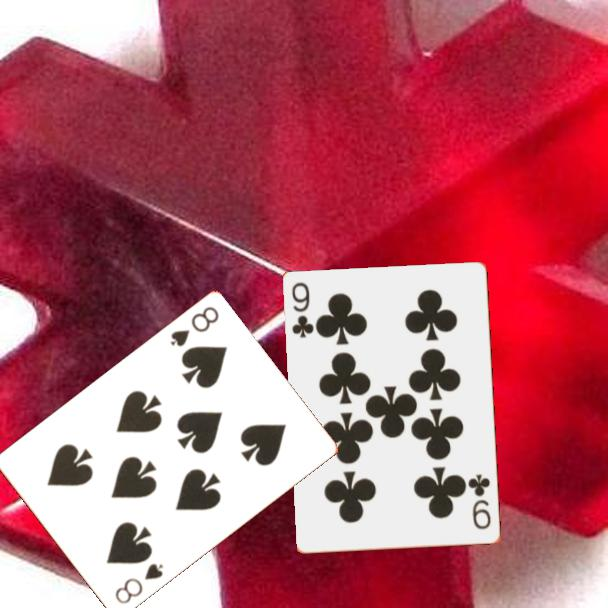c09: (288, 279, 317, 341), (466, 471, 494, 533)
s08: (166, 303, 222, 350), (111, 560, 166, 607)
